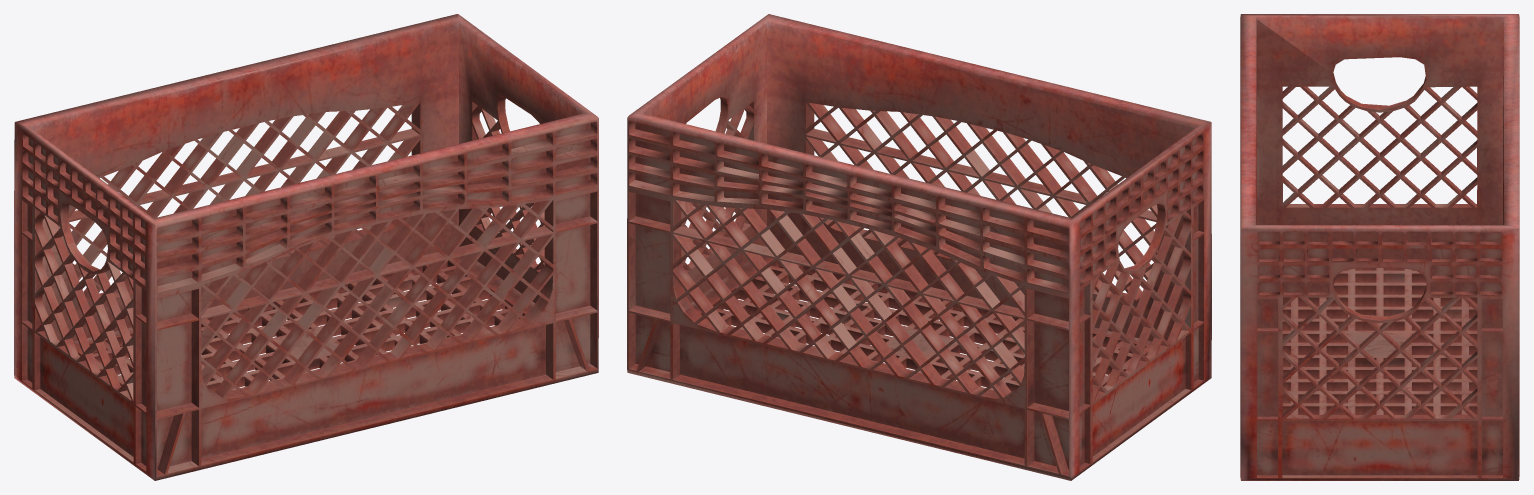
File: plastic_crate_03.glb
3 views of the same model, side by side, from view 1: azimuth 30°, elevation 25°; view 2: azimuth 150°, elevation 25°; view 3: azimuth 270°, elevation 25° (orthographic).
Parts seen in each view (by area): view 1: plastic_crate_03; view 2: plastic_crate_03; view 3: plastic_crate_03.
Part boxes in pixels (x1,y1,x2,y2): plastic_crate_03: (14,14,598,480); plastic_crate_03: (627,14,1211,480); plastic_crate_03: (1240,14,1519,480).
Size of the model in its own units: 0.4811 by 0.2652 by 0.265.
Materials: 1 (1 with a texture image).
